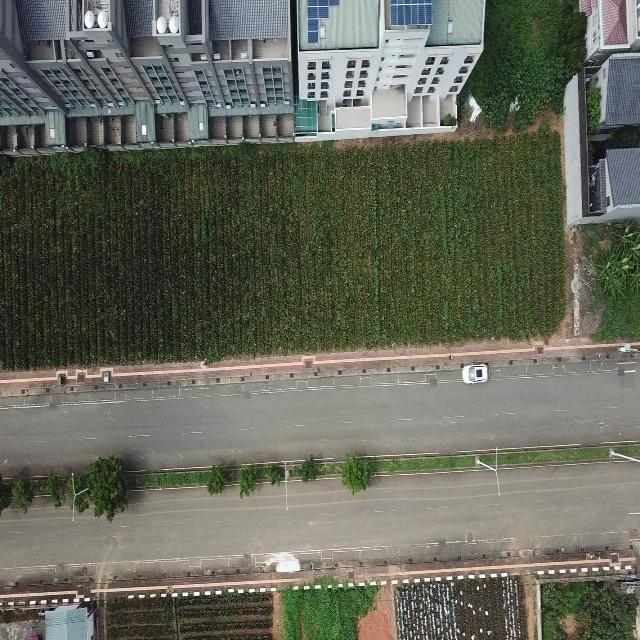car: (462, 361, 489, 384)
